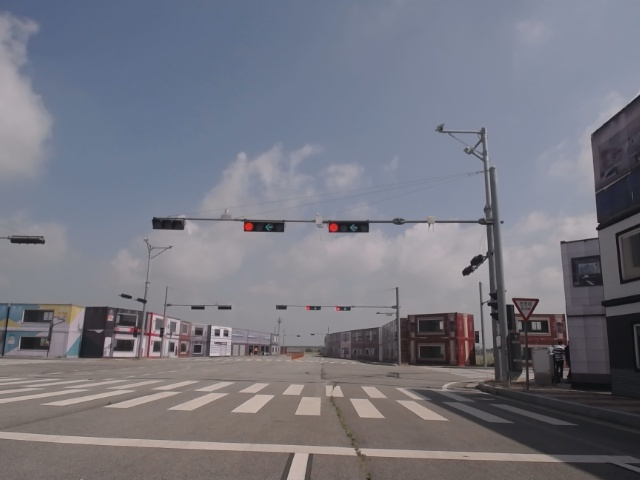left_green_4: (328, 220, 370, 233), (244, 220, 285, 233)
